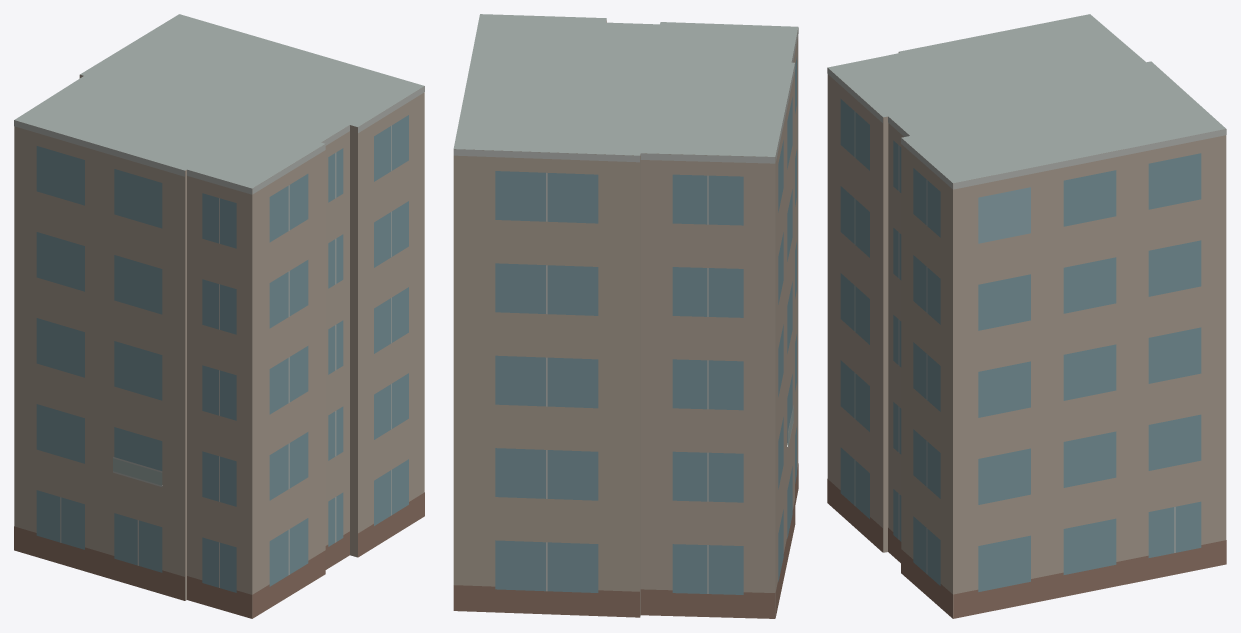
Rendered from survey-upis-32841511.glb.
3 renders of one model, left to right at view 1: azimuth 30°, elevation 25°; view 2: azimuth 150°, elevation 25°; view 3: azimuth 270°, elevation 25°, orthographic. The views are drawn at different scales.
Visible parts, largest first — view 1: survey-upis-32841511.tmp; view 2: survey-upis-32841511.tmp; view 3: survey-upis-32841511.tmp.
Boxes of the visible parts, x1=… form: survey-upis-32841511.tmp: x1=14, y1=14, x2=424, y2=618; survey-upis-32841511.tmp: x1=453, y1=14, x2=798, y2=618; survey-upis-32841511.tmp: x1=827, y1=14, x2=1226, y2=618.
Size of the model in its own units: 14.19 by 17 by 14.12.
